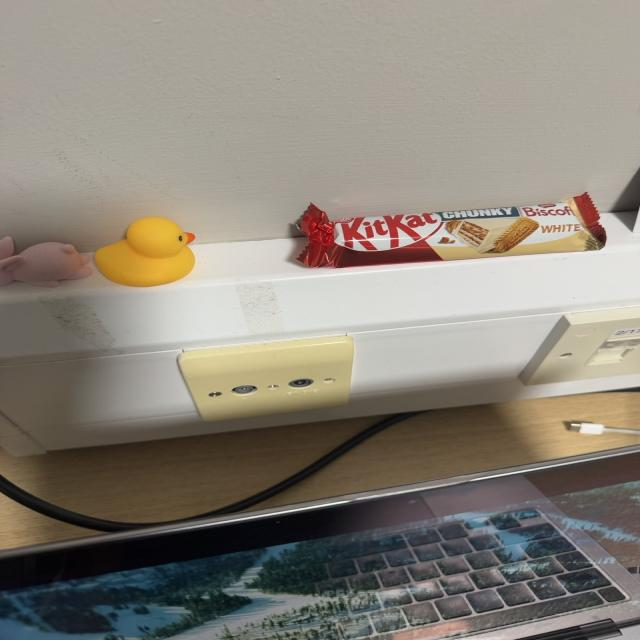chocolate: (287, 190, 609, 270)
